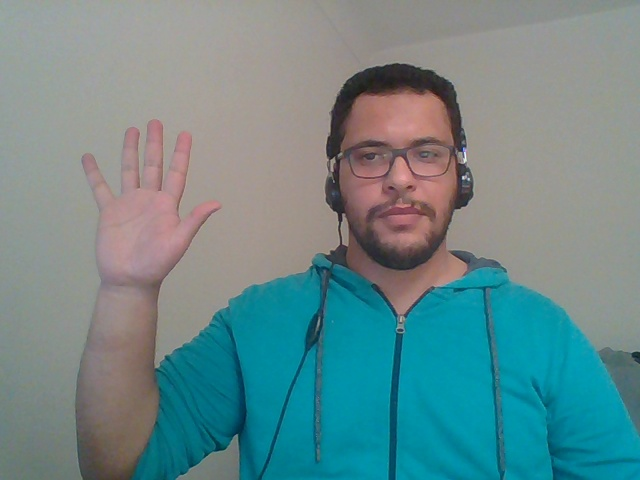hello: (50, 97, 234, 374)
